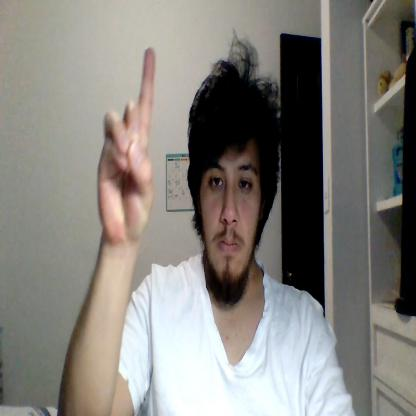D: (96, 48, 156, 246)
